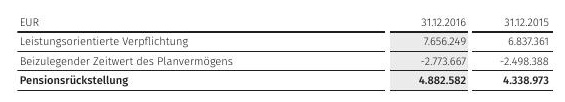table: (0, 0, 565, 102)
